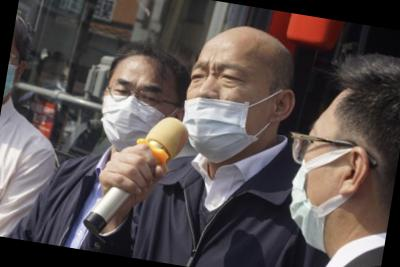mask_weared_incorrect: (177, 52, 285, 173)
with_mask: (272, 114, 359, 256), (95, 71, 184, 161)
